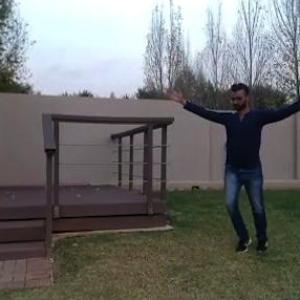takeoff: (157, 81, 300, 250)
